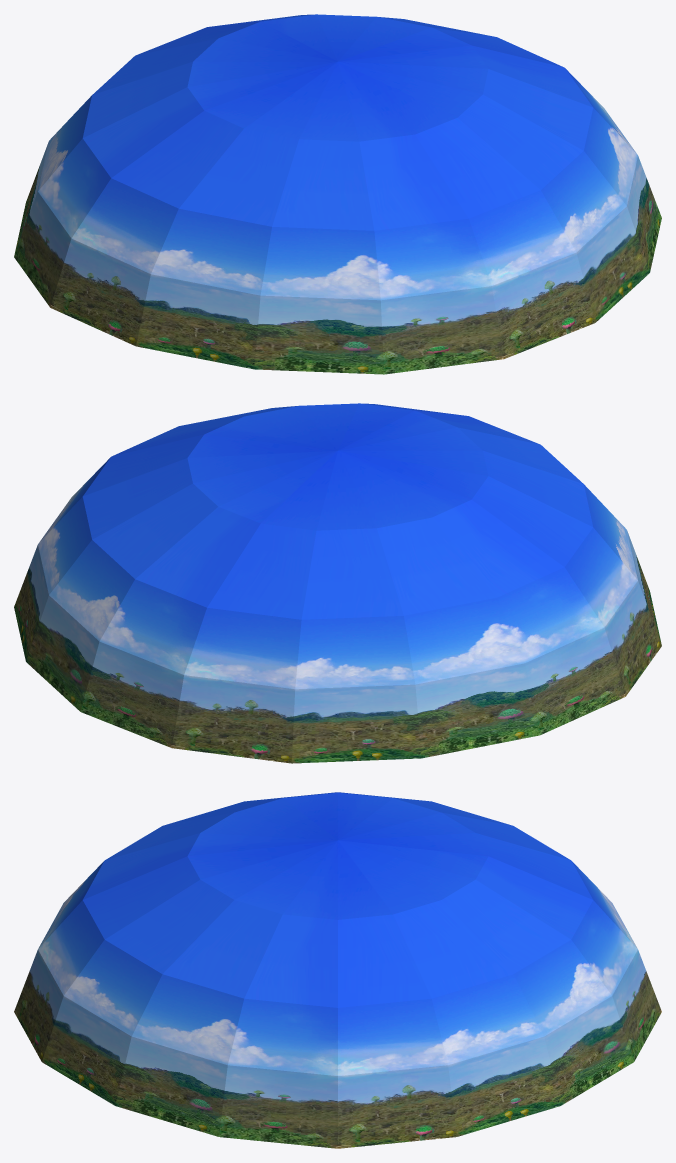
The model's file is Team vs 2.obj.
The picture shows the model from 3 angles, top to bottom: view 1: azimuth 30°, elevation 25°; view 2: azimuth 150°, elevation 25°; view 3: azimuth 270°, elevation 25°; orthographic projection. The views are drawn at different scales.
Visible parts, largest first — view 1: Object_2; view 2: Object_2; view 3: Object_2.
Boxes of the visible parts, bbox=[...] form: Object_2: bbox=[14, 14, 661, 374]; Object_2: bbox=[14, 403, 661, 763]; Object_2: bbox=[14, 792, 661, 1148].
Bounding box in the file's own units: 187664 × 55075 × 187664.
40 materials, 40 textured.
